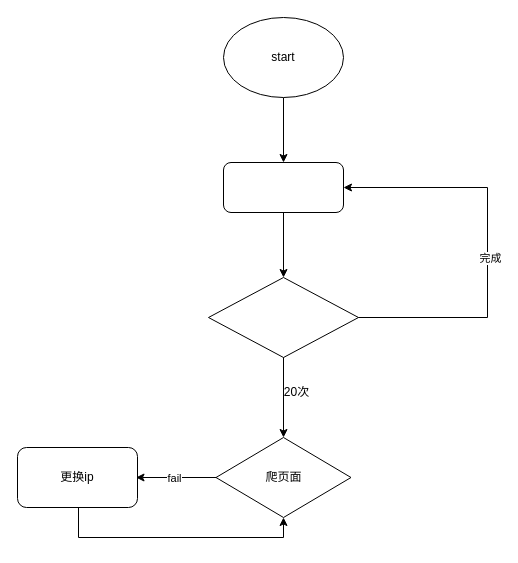
The diagram is 518 pixels wide and 563 high, and some of its shapes have lost their labels. The box of each missing label's shape, as (x1, y1, x2, y2) in pixels:
爬取20条详情页: (208, 276, 358, 358)
读取urlCSV 每次20条: (222, 162, 344, 212)
